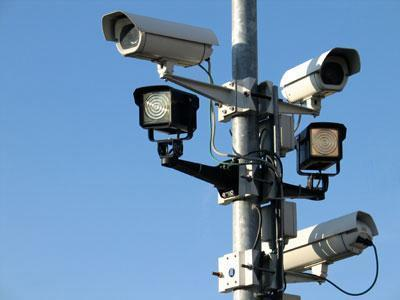Speed-Camera: (96, 8, 225, 148), (276, 41, 369, 175), (245, 205, 384, 278)
